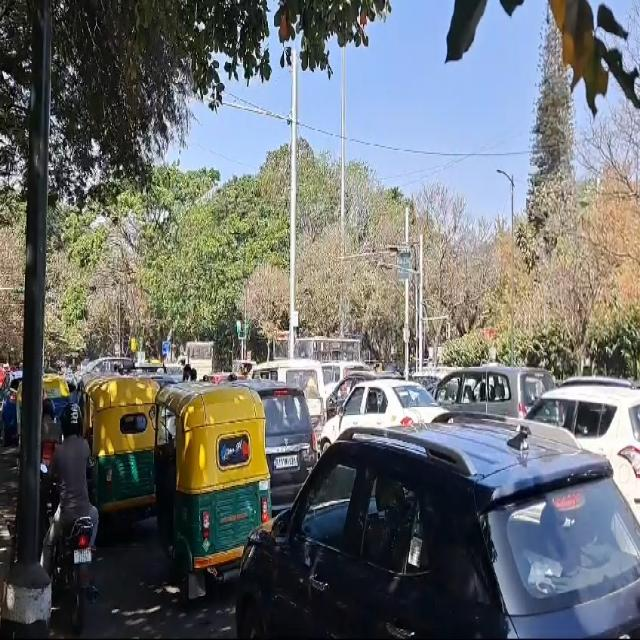cars: (237, 423, 640, 640), (532, 382, 640, 513), (250, 383, 320, 520), (325, 380, 451, 450), (441, 366, 553, 420)
